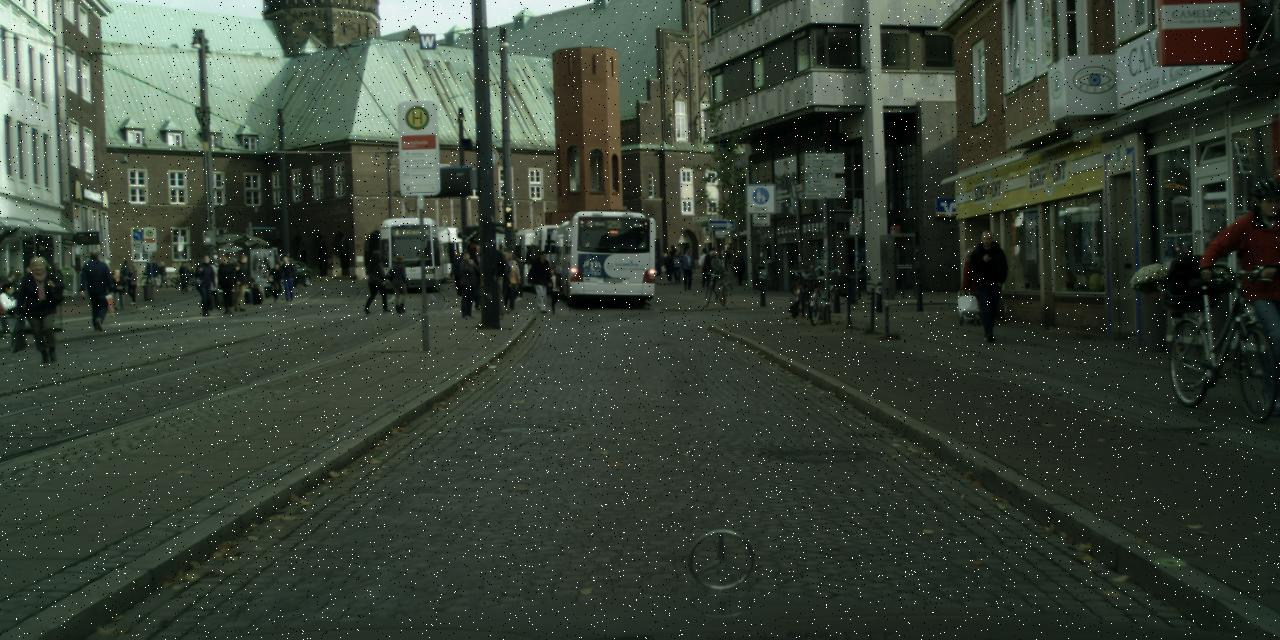ped: (1226, 178, 1278, 414), (965, 230, 1011, 341), (22, 256, 64, 361), (80, 249, 112, 330), (959, 247, 989, 322), (453, 250, 481, 318), (486, 246, 512, 310), (530, 249, 556, 312), (193, 254, 218, 315), (468, 245, 492, 308), (387, 253, 412, 313), (364, 251, 389, 311), (229, 253, 252, 311), (214, 255, 237, 312), (492, 252, 514, 310), (497, 251, 519, 308), (508, 253, 526, 300), (278, 255, 296, 301), (542, 266, 560, 312), (450, 253, 468, 295), (50, 262, 66, 304), (268, 262, 284, 302), (124, 264, 140, 304), (40, 263, 56, 303), (679, 248, 695, 288), (109, 269, 125, 308), (24, 267, 40, 305), (700, 250, 716, 288), (708, 251, 723, 289), (698, 247, 712, 281), (732, 250, 746, 284), (670, 250, 682, 282), (662, 252, 674, 282), (120, 260, 131, 288), (178, 261, 188, 290), (667, 245, 677, 272), (157, 261, 167, 287), (144, 256, 154, 282), (661, 252, 669, 272)
